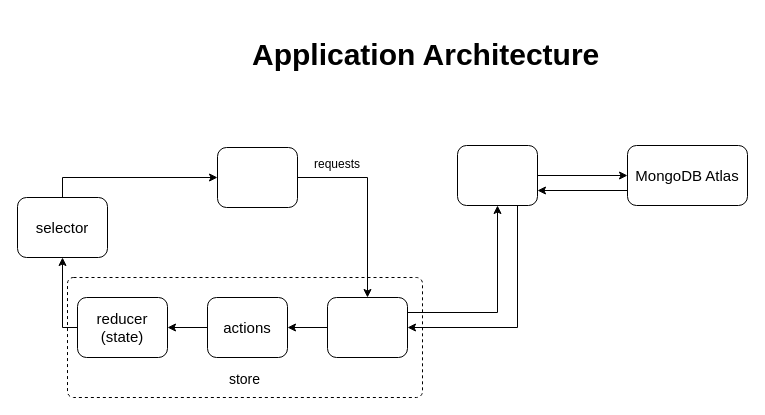
This 765x415 diagram has some shape labels left out. Here are the shapes that lost their labels. From the top down, the centre of each, then its label:
At (x=257, y=177): "App".
At (x=497, y=175): "server".
At (x=367, y=327): "thunks".
